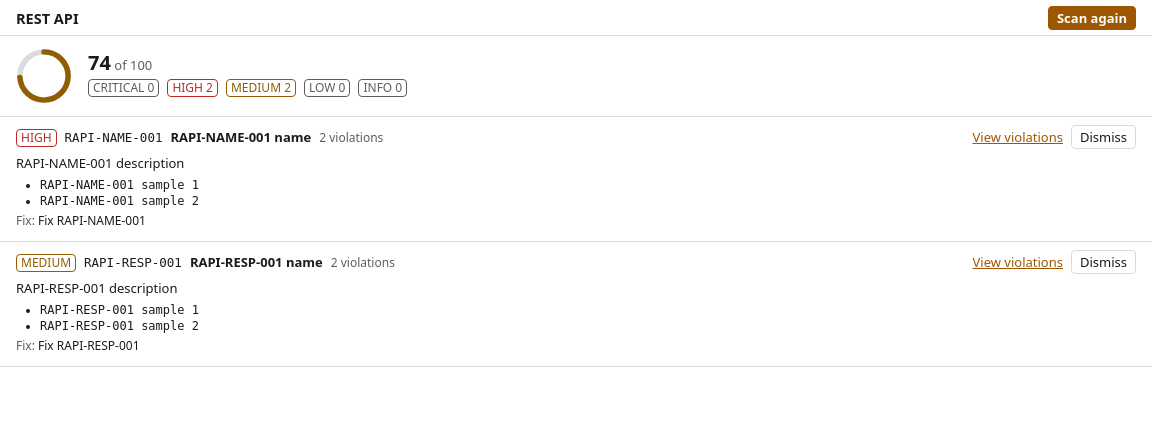
Test: a failed dismiss reports the action error and keeps the report
Click the button "Dismiss" in the row of "RAPI-NAME-001 name".
click(1104, 137)  # box [1071,125,1136,149]
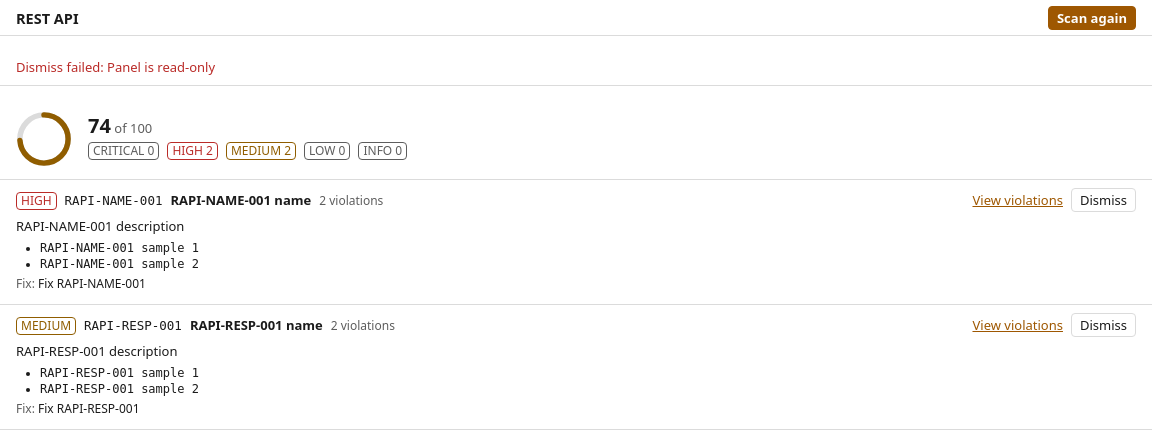
Expected: the text "RAPI-NAME-001 description" is shown, [16,217,184,235]
Now the message "Dismiss failed: Panel is read-only" is shown, box [0,49,1151,86]
